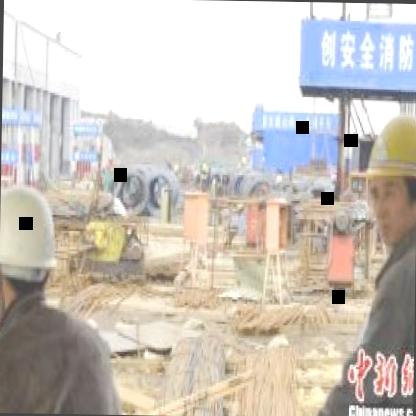helmet: (0, 163, 68, 318), (351, 99, 416, 254)
